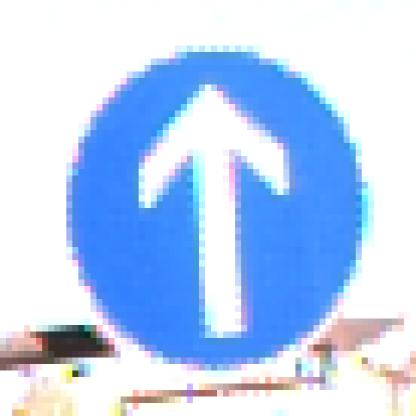AheadOnly: (43, 34, 381, 385)
